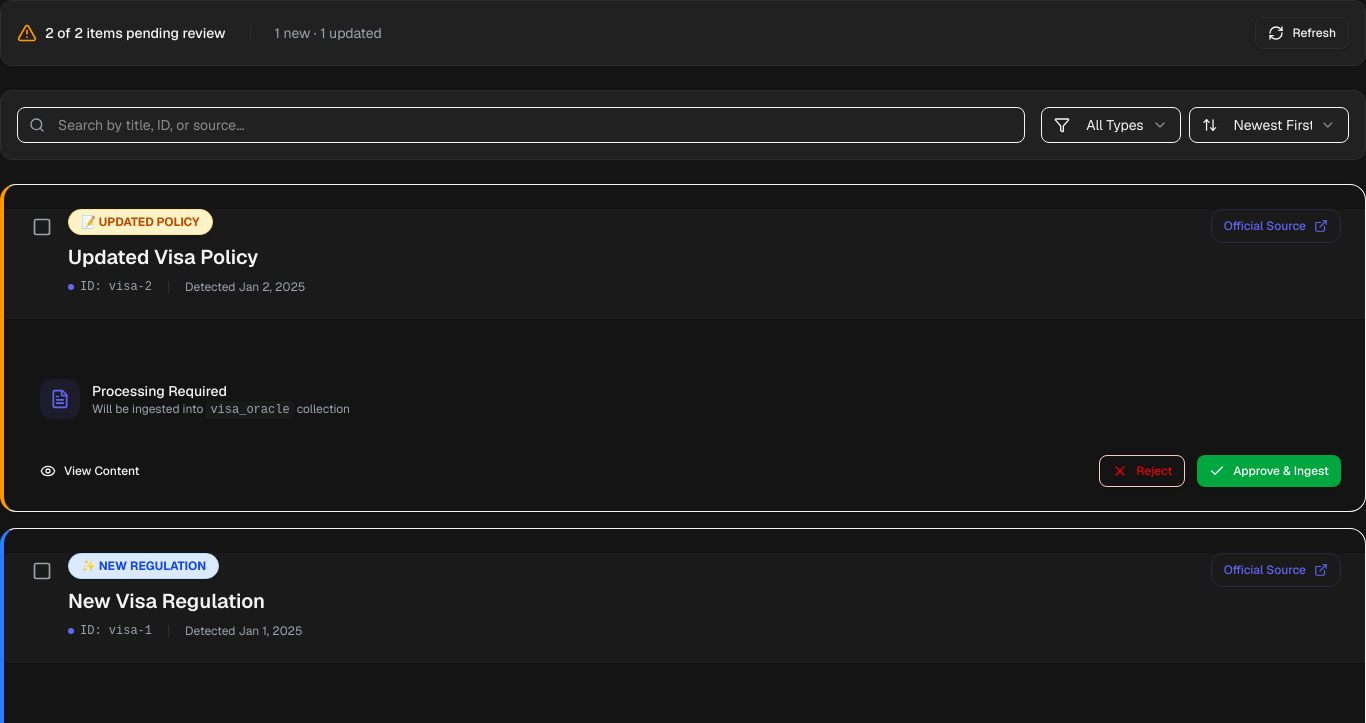
Test: VisaOraclePage › should close preview when "Hide Preview" is clicked
This screenshot has width=1366, height=723.
Expected: the text "New Visa Regulation" is shown, [68,588,265,614]
Open preview
Click the button "View Content": (90, 471) [28,455,152,487]
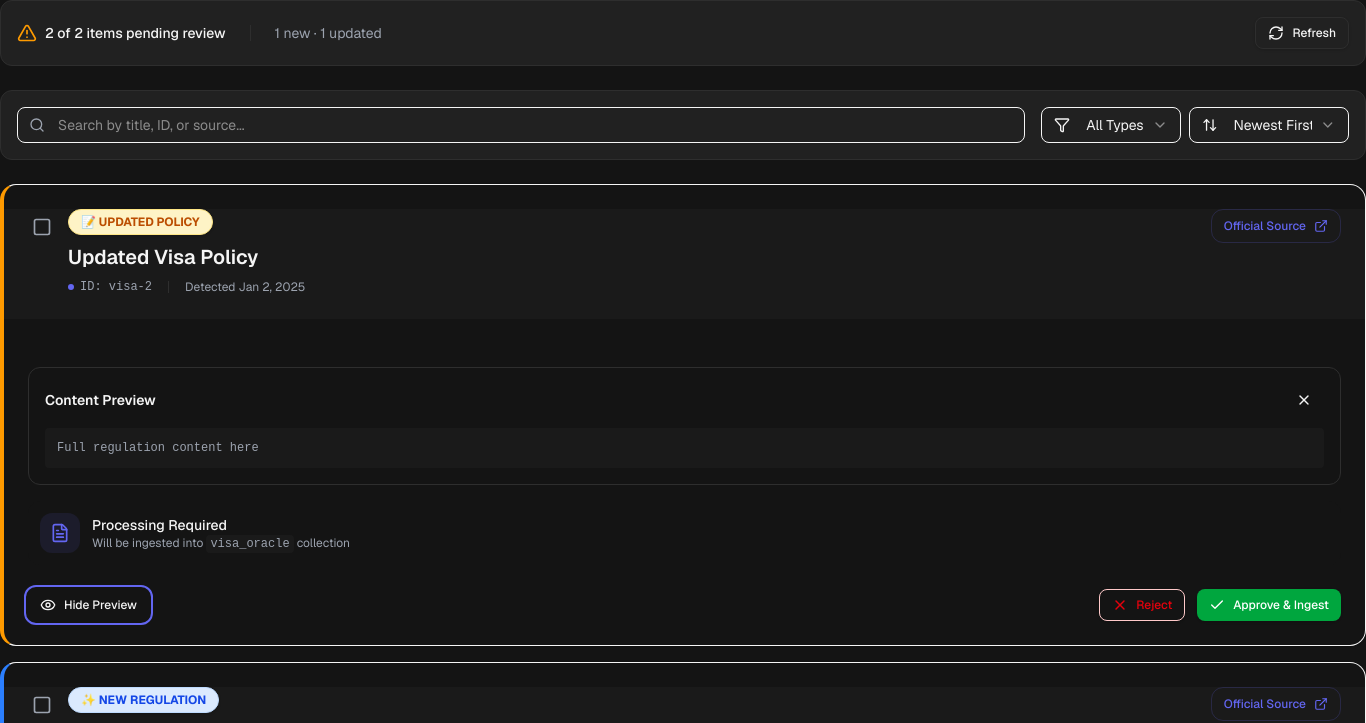
Expected: the heading "Content Preview" is shown, [45,390,156,410]
Close preview
Click the button "Hide Preview": (89, 605) [28,589,149,621]
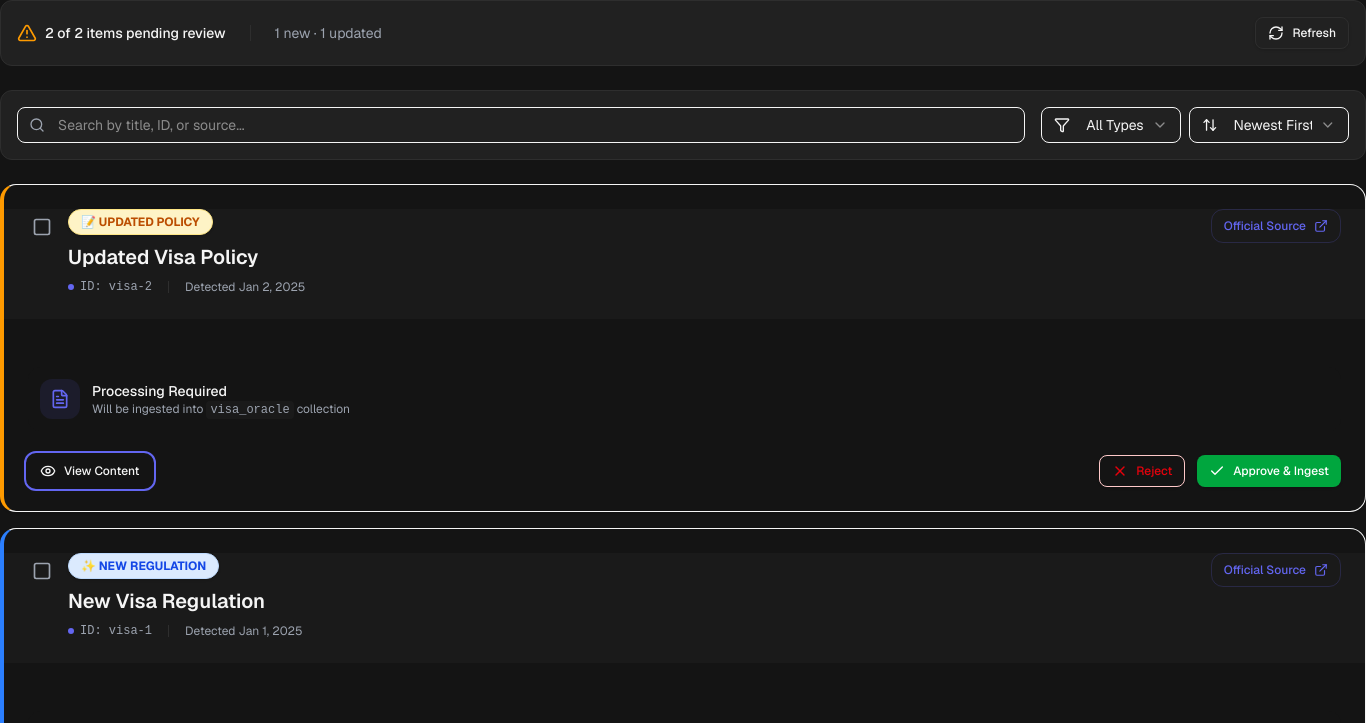
Expected: the heading "Content Preview" is gone
